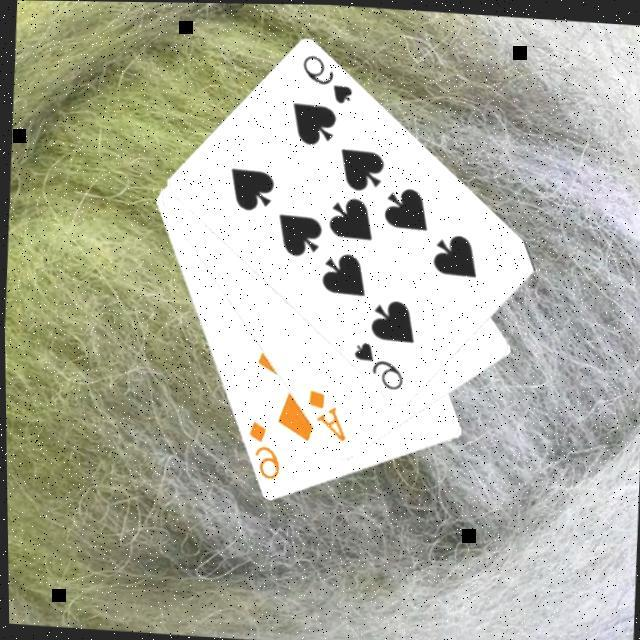9D: (242, 419, 284, 485)
9S: (347, 338, 409, 396), (297, 52, 359, 110)
AD: (302, 386, 352, 446)
